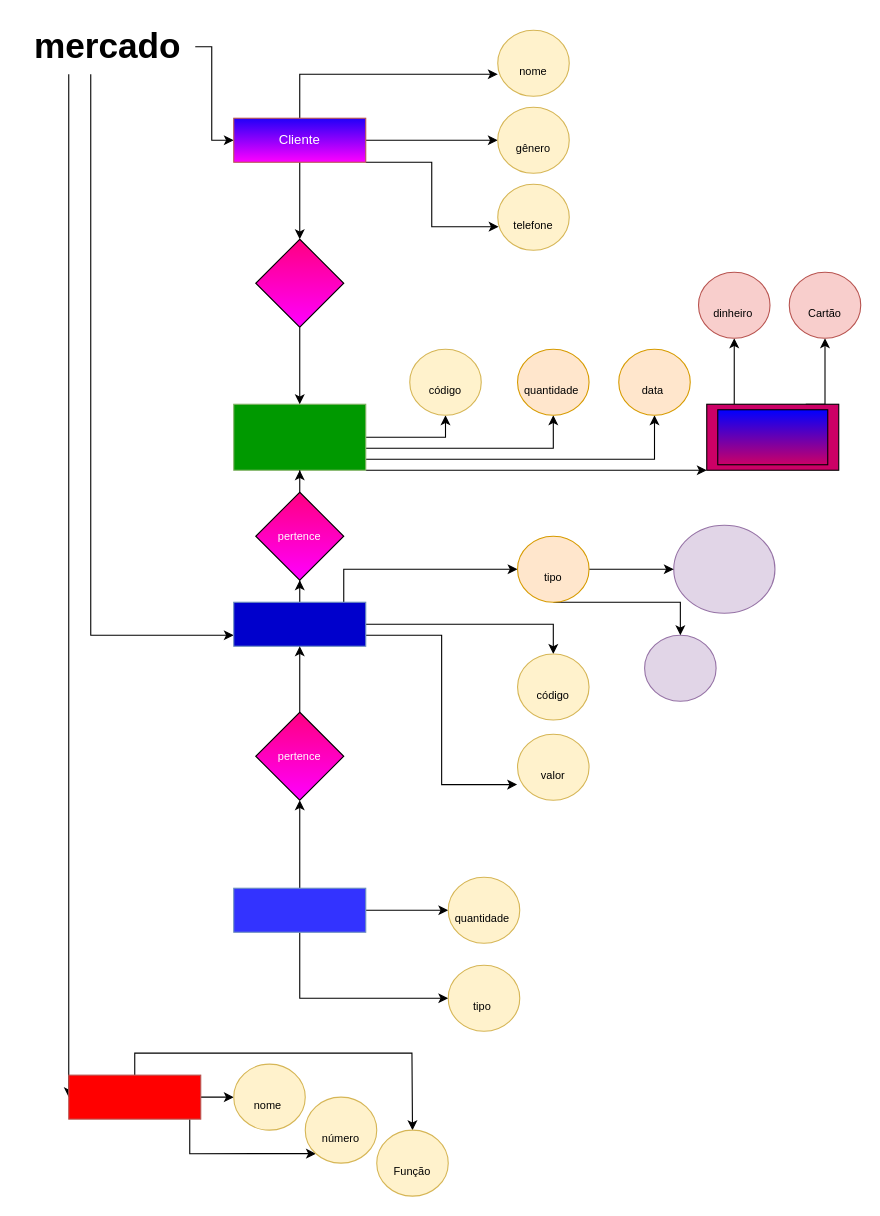
Some shapes in this 880 by 1216 pixel diagram are drawn without their labels. The centre of each missing label's shape, as x and y in pixels:
alimento: (680,667)
cliente realiza compra: (299,282)
compra: (299,436)
estoque: (299,909)
funcionário: (134,1096)
produto: (299,623)
Produtos de limpeza: (724,568)
tipo de pagamento: (772,437)
